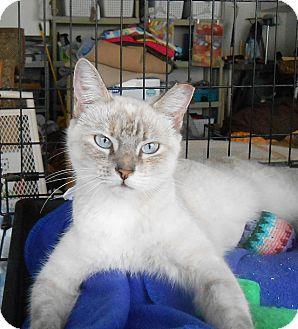siamese: (60, 48, 200, 204)
